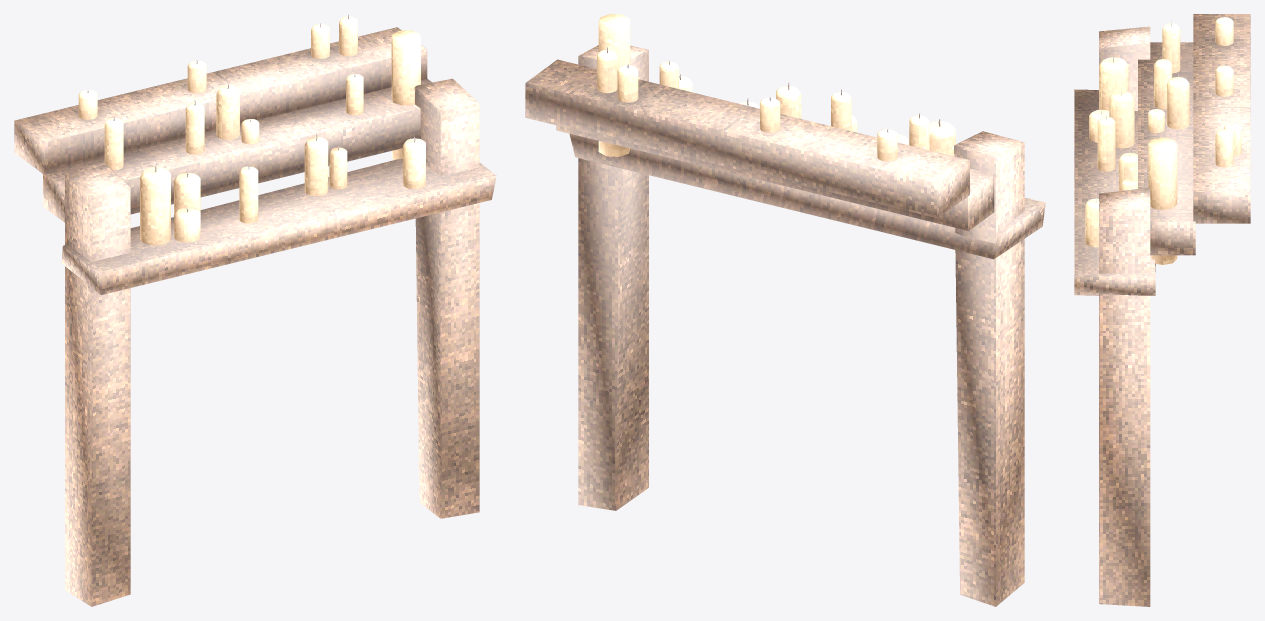
The model's file is candle_shelf.glb.
3 views of the same model, side by side, from view 1: azimuth 30°, elevation 25°; view 2: azimuth 150°, elevation 25°; view 3: azimuth 270°, elevation 25° (orthographic). The views are drawn at different scales.
Parts seen in each view (by area): view 1: Candle_Shelf; view 2: Candle_Shelf; view 3: Candle_Shelf.
Boxes of the visible parts, x1,y1,x2,y2 form: Candle_Shelf: (14,14,496,606); Candle_Shelf: (525,14,1045,606); Candle_Shelf: (1074,14,1250,606).
Size of the model in its own units: 4.17 by 4.67 by 1.66.
